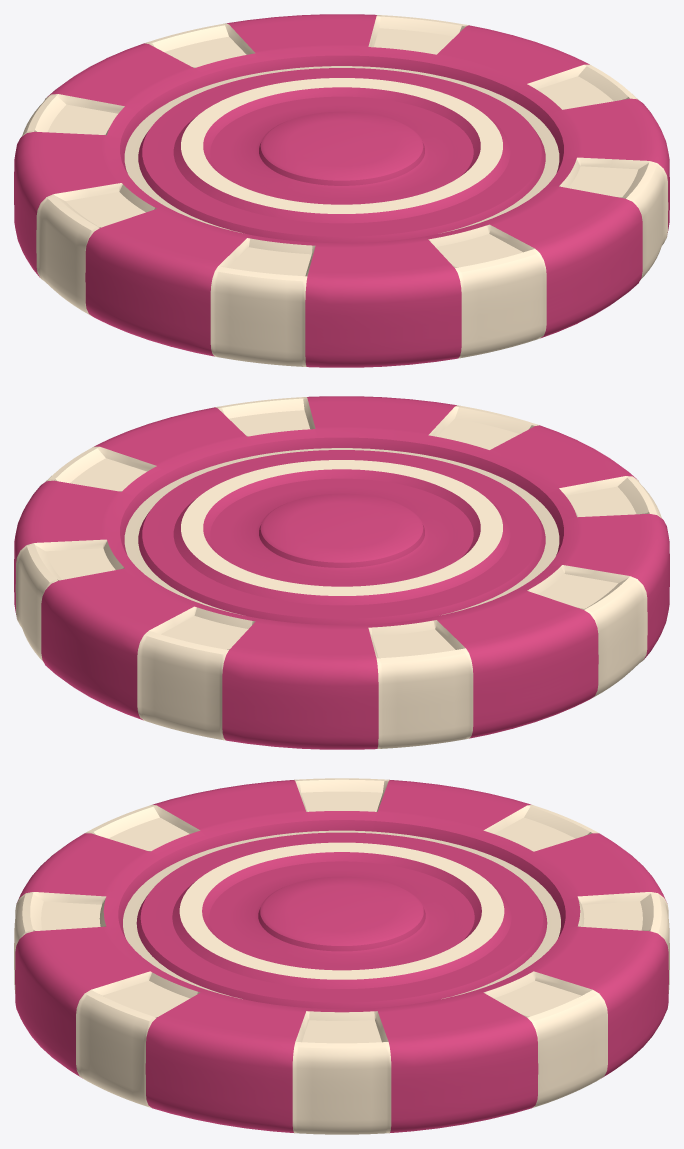
The model's file is PokerChip_Red.glb.
3 renders of one model, top to bottom at view 1: azimuth 30°, elevation 25°; view 2: azimuth 150°, elevation 25°; view 3: azimuth 270°, elevation 25°, orthographic.
Parts seen in each view (by area): view 1: PokerChip_Red; view 2: PokerChip_Red; view 3: PokerChip_Red.
Boxes of the visible parts, left/top/right/bottom form: PokerChip_Red: left=14, top=14, right=669, bottom=367; PokerChip_Red: left=14, top=396, right=669, bottom=749; PokerChip_Red: left=14, top=778, right=669, bottom=1134.
Size of the model in its own units: 1.98 by 0.324 by 1.98.
